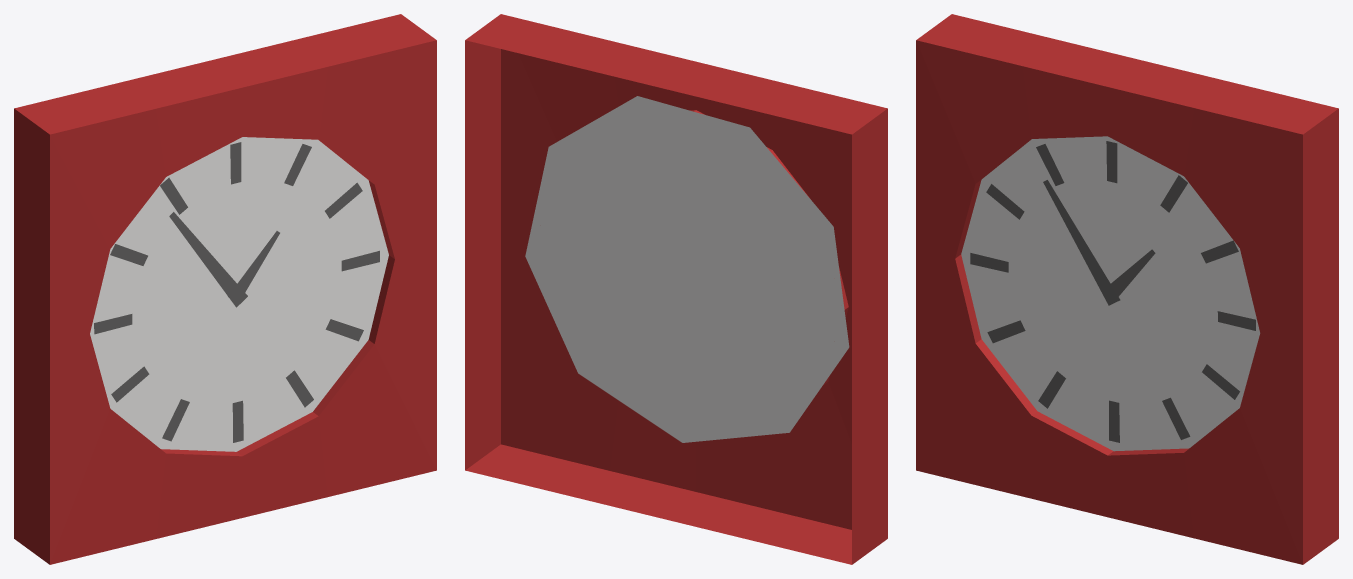
The model's file is Wall_Clock.fbx.
The picture shows the model from 3 angles, left to right: view 1: azimuth 30°, elevation 25°; view 2: azimuth 150°, elevation 25°; view 3: azimuth 330°, elevation 25°; orthographic projection.
Parts seen in each view (by area): view 1: Wall_Clock; view 2: Wall_Clock; view 3: Wall_Clock.
Boxes of the visible parts, <box> form: Wall_Clock: <box>14,14,436,564</box>; Wall_Clock: <box>465,14,887,564</box>; Wall_Clock: <box>916,14,1338,564</box>.
Bounding box in the file's own units: 43.9 × 7.13 × 46.65.
